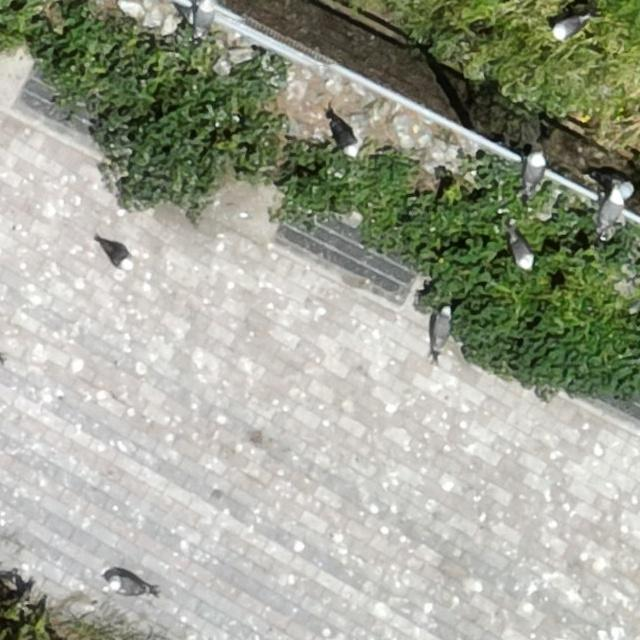umineko: (599, 188, 626, 228), (332, 123, 358, 154), (103, 240, 133, 266), (511, 234, 534, 267), (522, 152, 543, 188), (433, 310, 451, 350), (555, 16, 584, 38), (110, 576, 144, 594), (630, 297, 639, 315)
